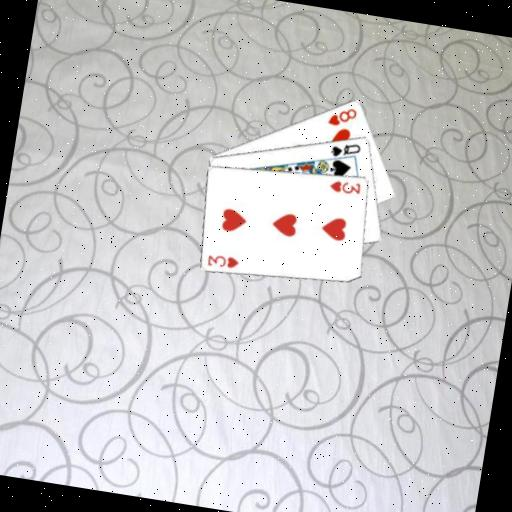3H: (204, 249, 242, 271), (325, 176, 362, 197)
8H: (324, 101, 359, 130)
QS: (327, 136, 363, 161)
